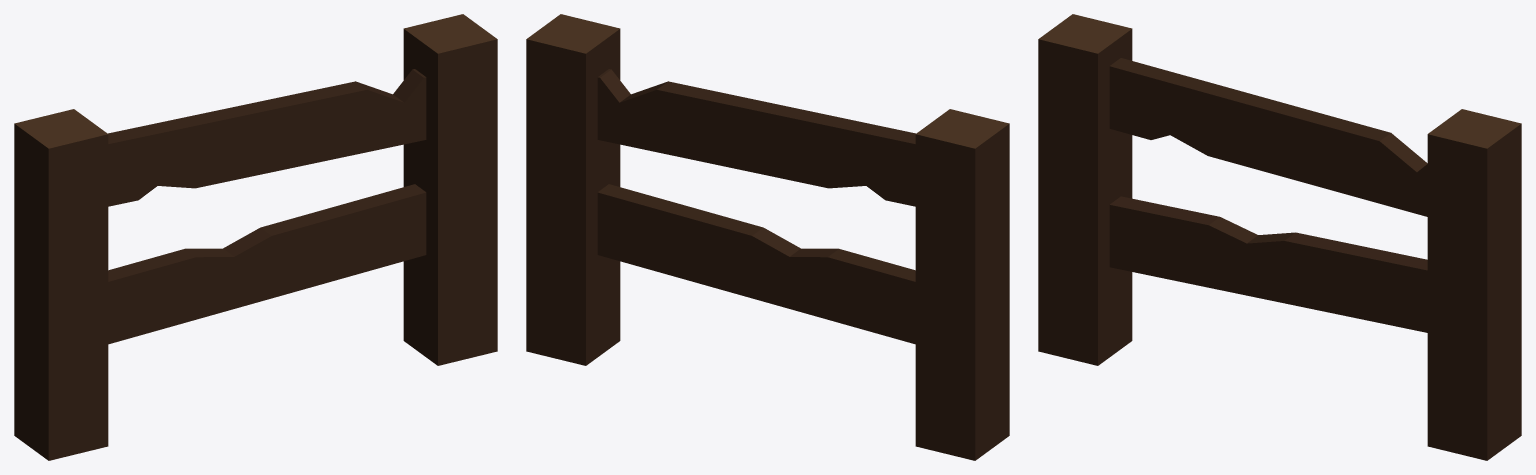
Rendered from Cave_Lair_Wooden_Timber_Fence_Small_03.fbx.
The picture shows the model from 3 angles, left to right: view 1: azimuth 30°, elevation 25°; view 2: azimuth 150°, elevation 25°; view 3: azimuth 330°, elevation 25°; orthographic projection.
Parts seen in each view (by area): view 1: Cave_Lair_Wooden_Timber_Fence_Small_03; view 2: Cave_Lair_Wooden_Timber_Fence_Small_03; view 3: Cave_Lair_Wooden_Timber_Fence_Small_03.
Part boxes in pixels (x1=…): Cave_Lair_Wooden_Timber_Fence_Small_03: x1=14, y1=14, x2=497, y2=460; Cave_Lair_Wooden_Timber_Fence_Small_03: x1=526, y1=14, x2=1009, y2=460; Cave_Lair_Wooden_Timber_Fence_Small_03: x1=1038, y1=14, x2=1521, y2=460.
Bounding box in the file's own units: 1.69 × 1.12 × 0.225.
